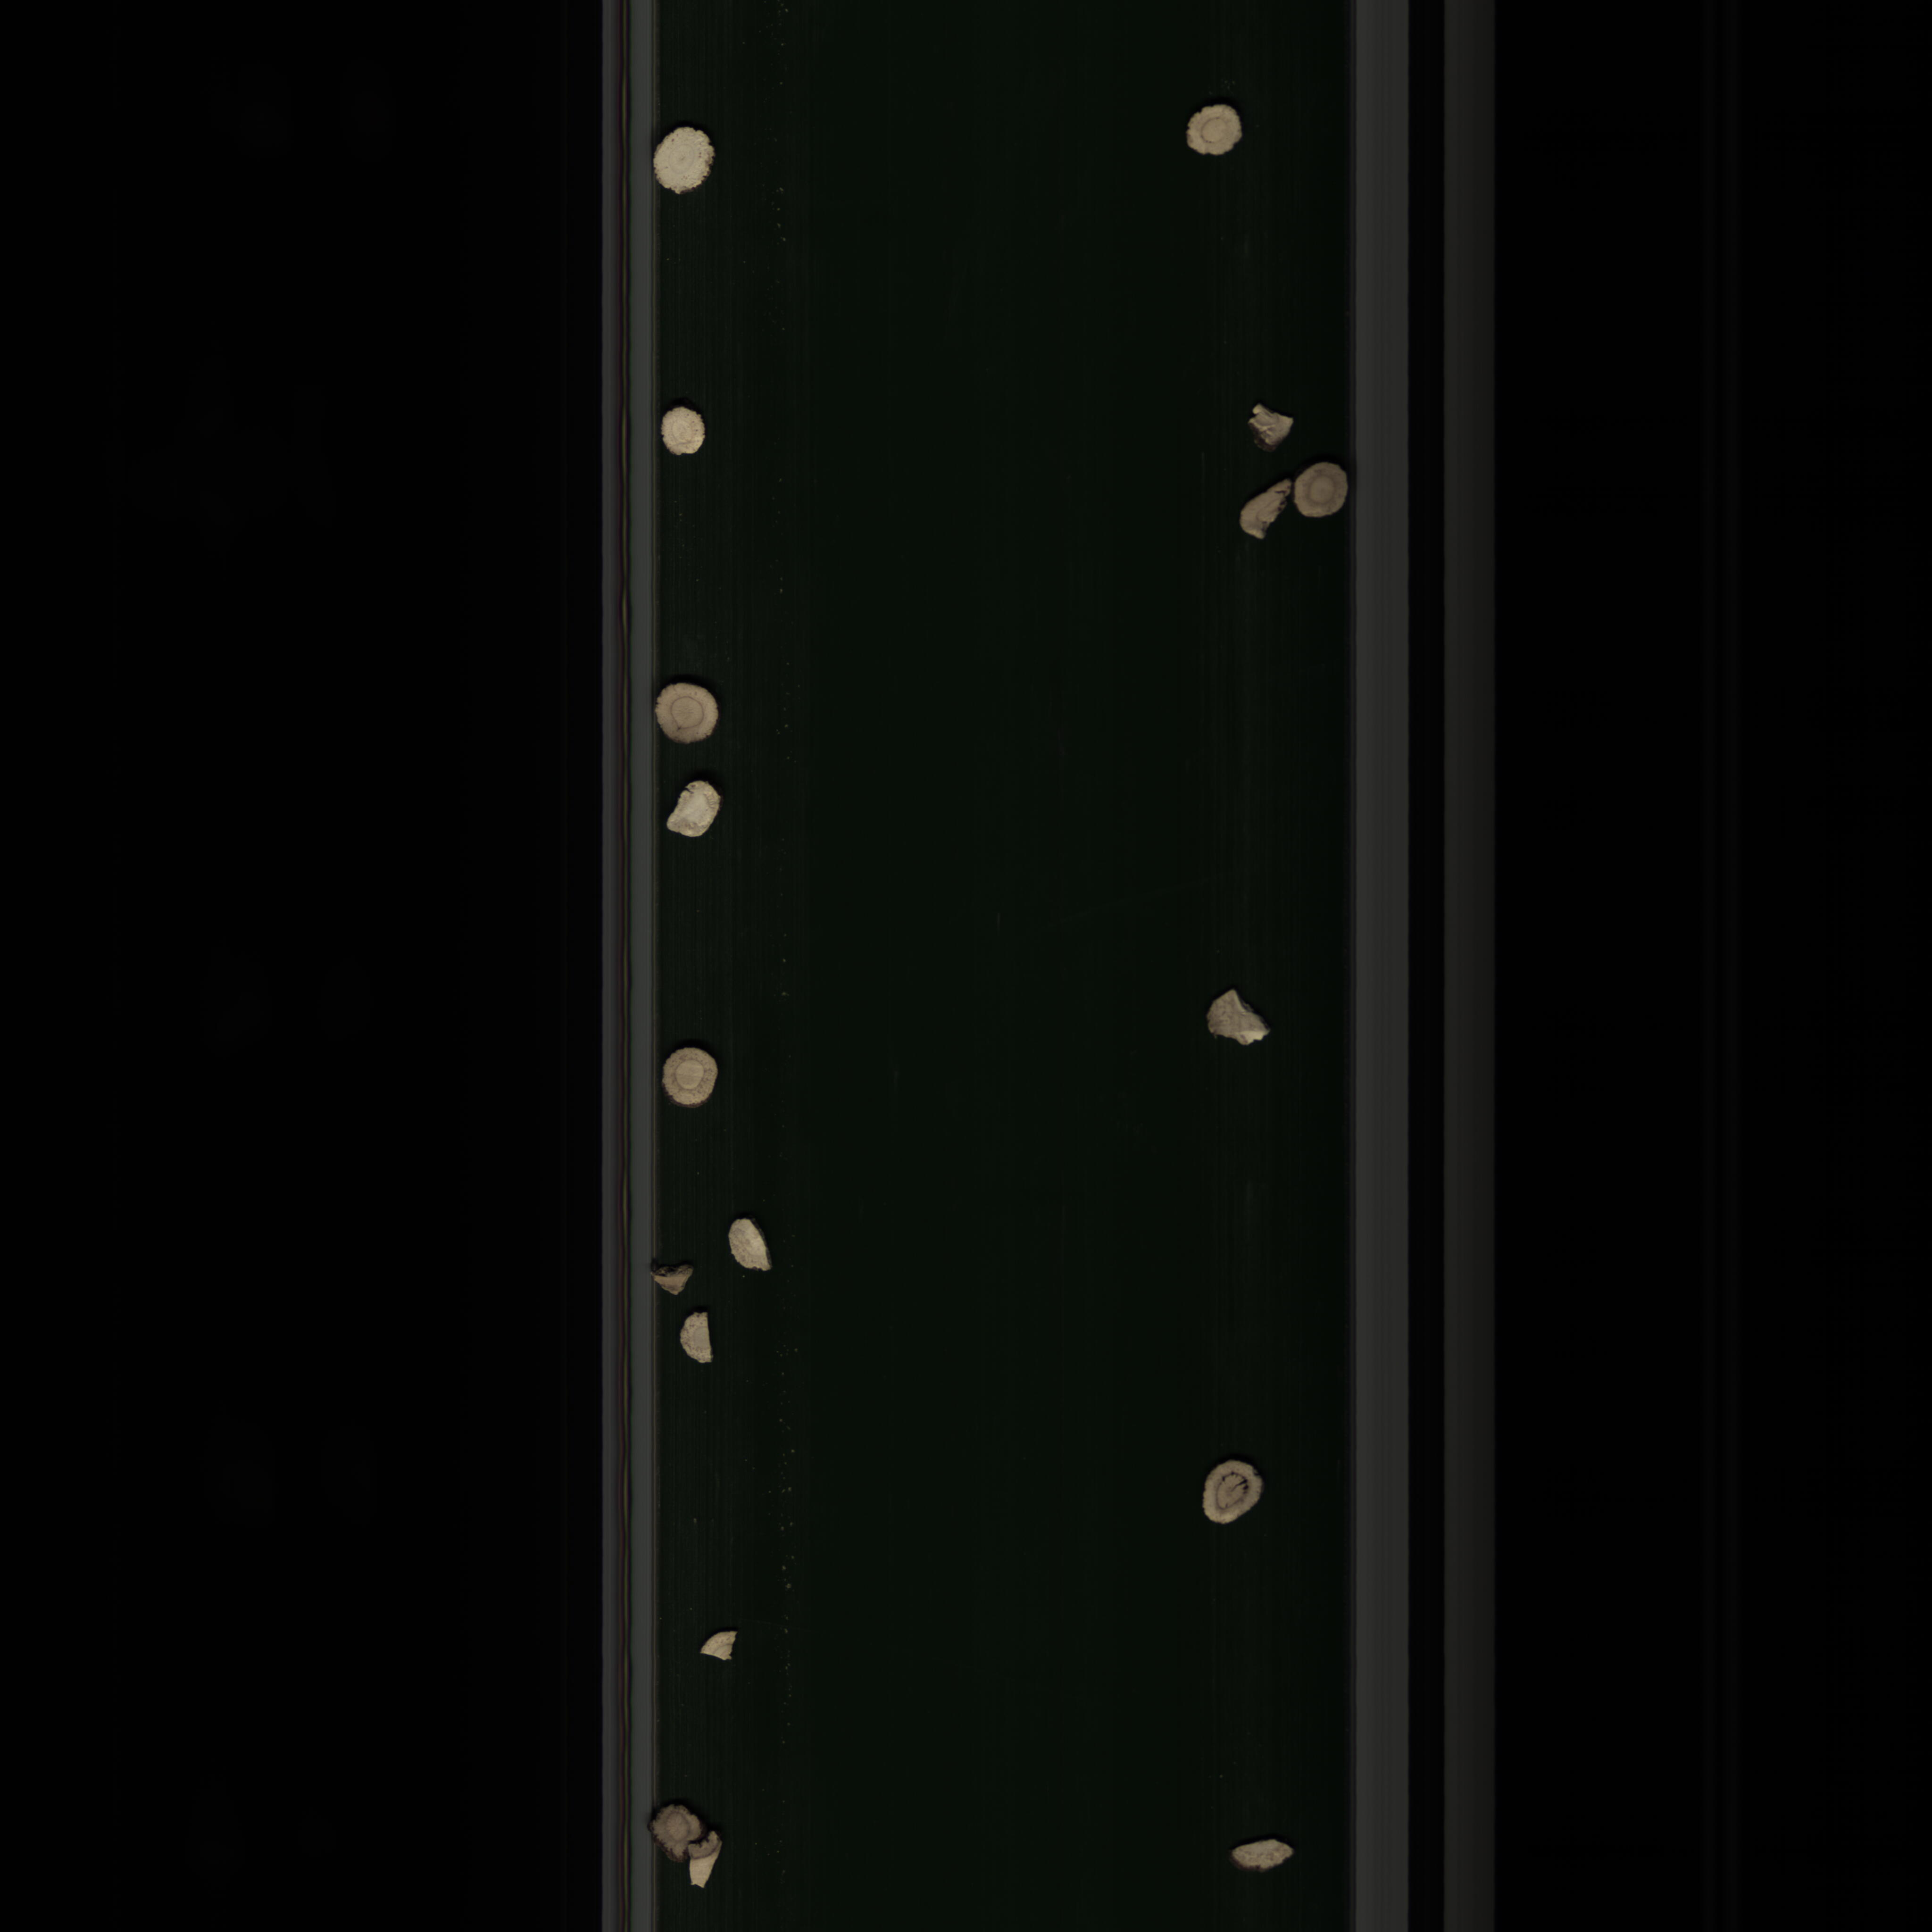bark: (1240, 395, 1307, 458), (644, 1256, 706, 1304)
debris: (1192, 978, 1276, 1049), (1233, 472, 1295, 545), (663, 771, 725, 837), (725, 1214, 778, 1290), (676, 1306, 720, 1384), (1224, 1836, 1302, 1881), (692, 1629, 750, 1665)
hole: (1192, 1454, 1269, 1536)
moldy: (635, 1803, 709, 1859)
